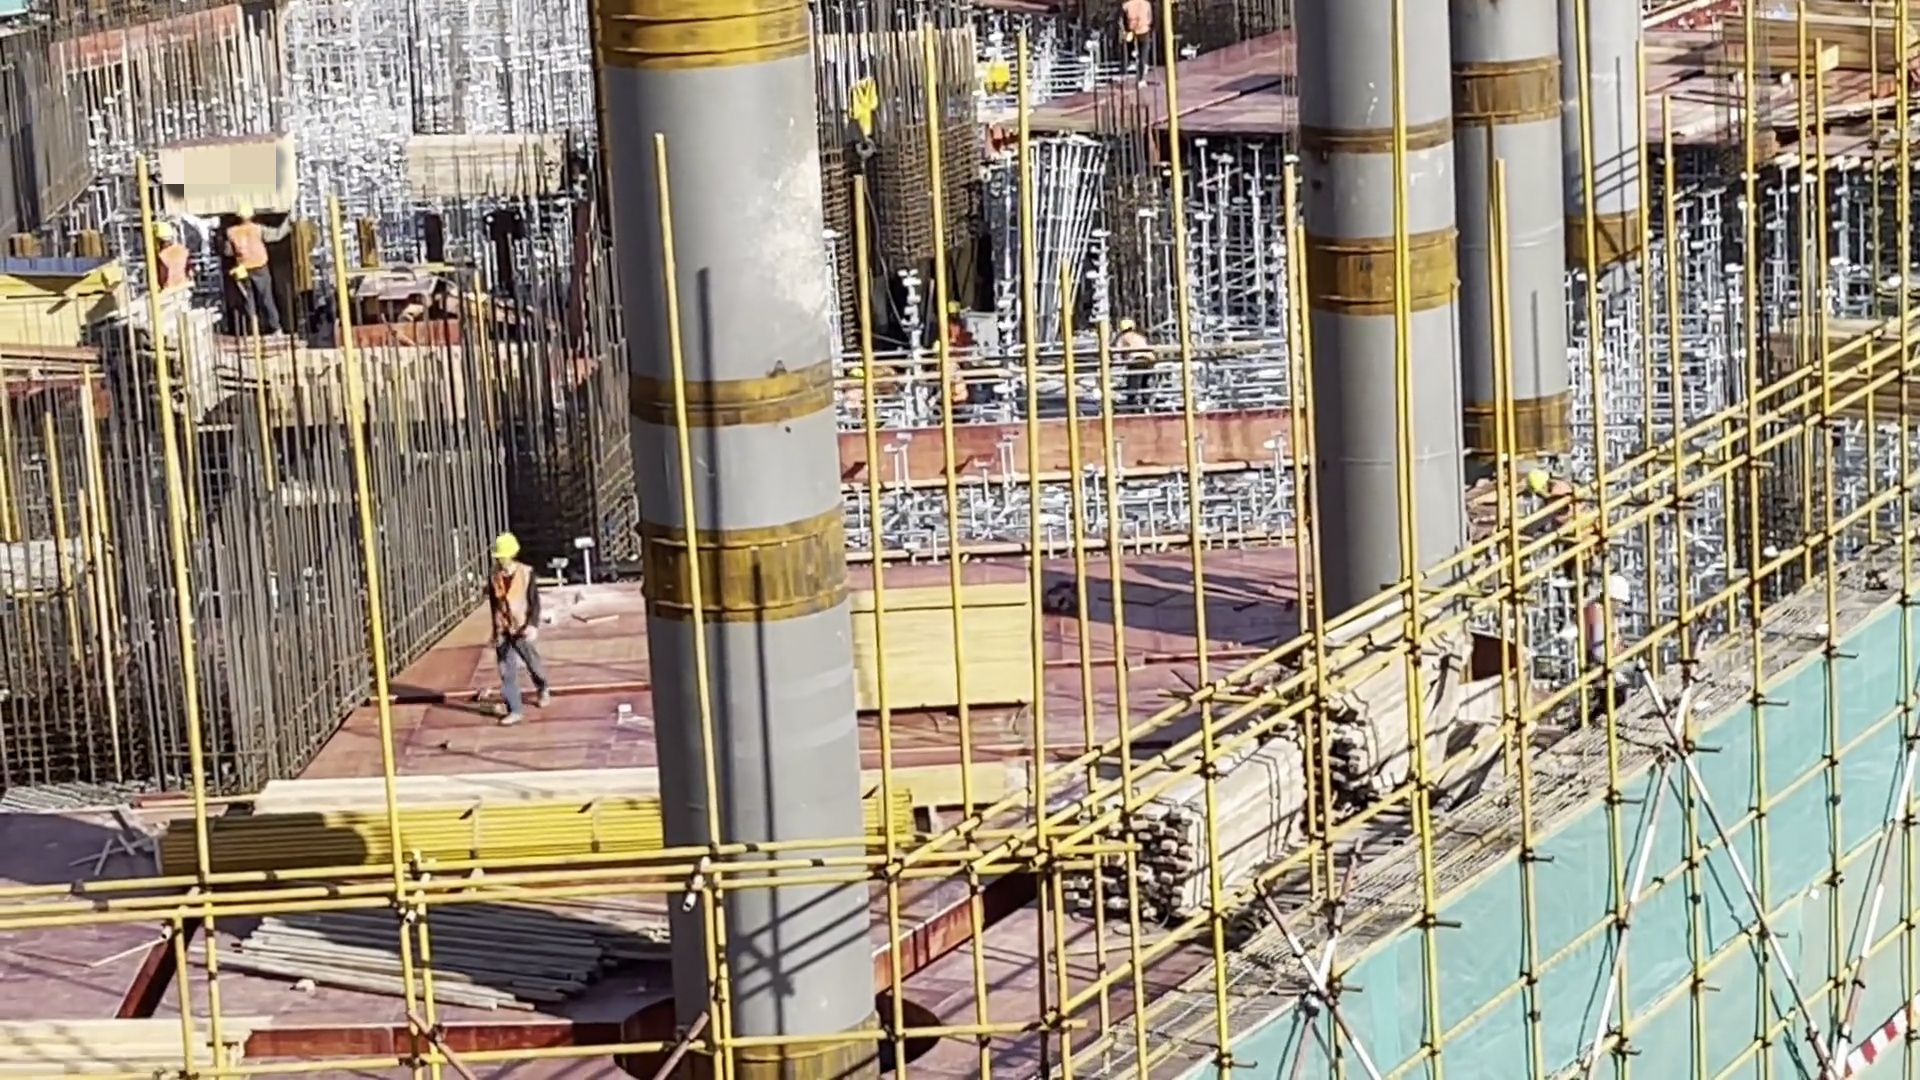helmet: (485, 519, 522, 569), (222, 203, 255, 236), (1110, 314, 1136, 345), (152, 219, 173, 241), (947, 297, 960, 315)
hook: (832, 79, 892, 145)
person: (477, 528, 558, 720), (219, 204, 285, 338), (919, 344, 976, 420), (1112, 317, 1161, 404), (152, 223, 198, 296), (1124, 1, 1151, 81), (937, 297, 975, 346)
vest: (486, 562, 537, 643), (226, 223, 275, 274), (155, 246, 191, 285), (1126, 1, 1150, 35)
wood: (177, 870, 619, 1035), (1259, 592, 1521, 820), (1060, 715, 1321, 934)
